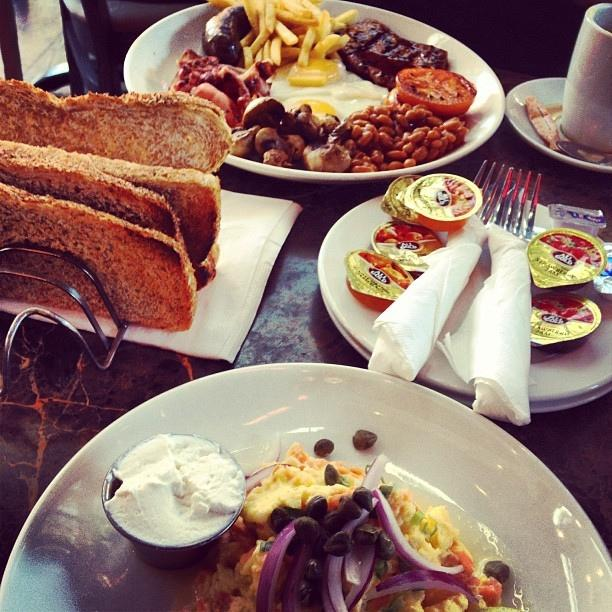onion: (371, 488, 464, 575), (326, 496, 379, 612), (256, 519, 297, 612), (364, 570, 478, 602), (344, 538, 378, 611), (282, 543, 312, 612), (247, 434, 281, 494), (360, 454, 390, 490), (344, 544, 361, 586)
tomato: (396, 67, 476, 116), (449, 542, 474, 583), (479, 576, 503, 606), (211, 590, 232, 612), (237, 533, 258, 553), (327, 498, 340, 512)
